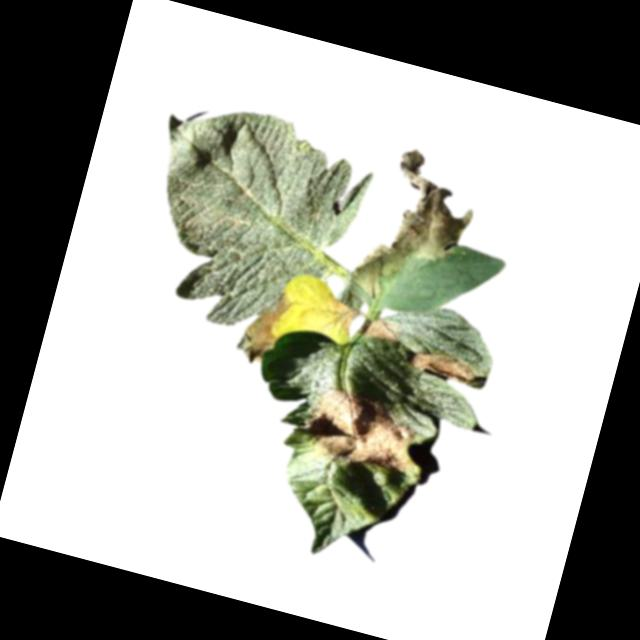Late_blight: (348, 142, 483, 315), (292, 378, 432, 485), (235, 282, 295, 368), (405, 343, 478, 390), (322, 295, 362, 336), (359, 316, 404, 347)
